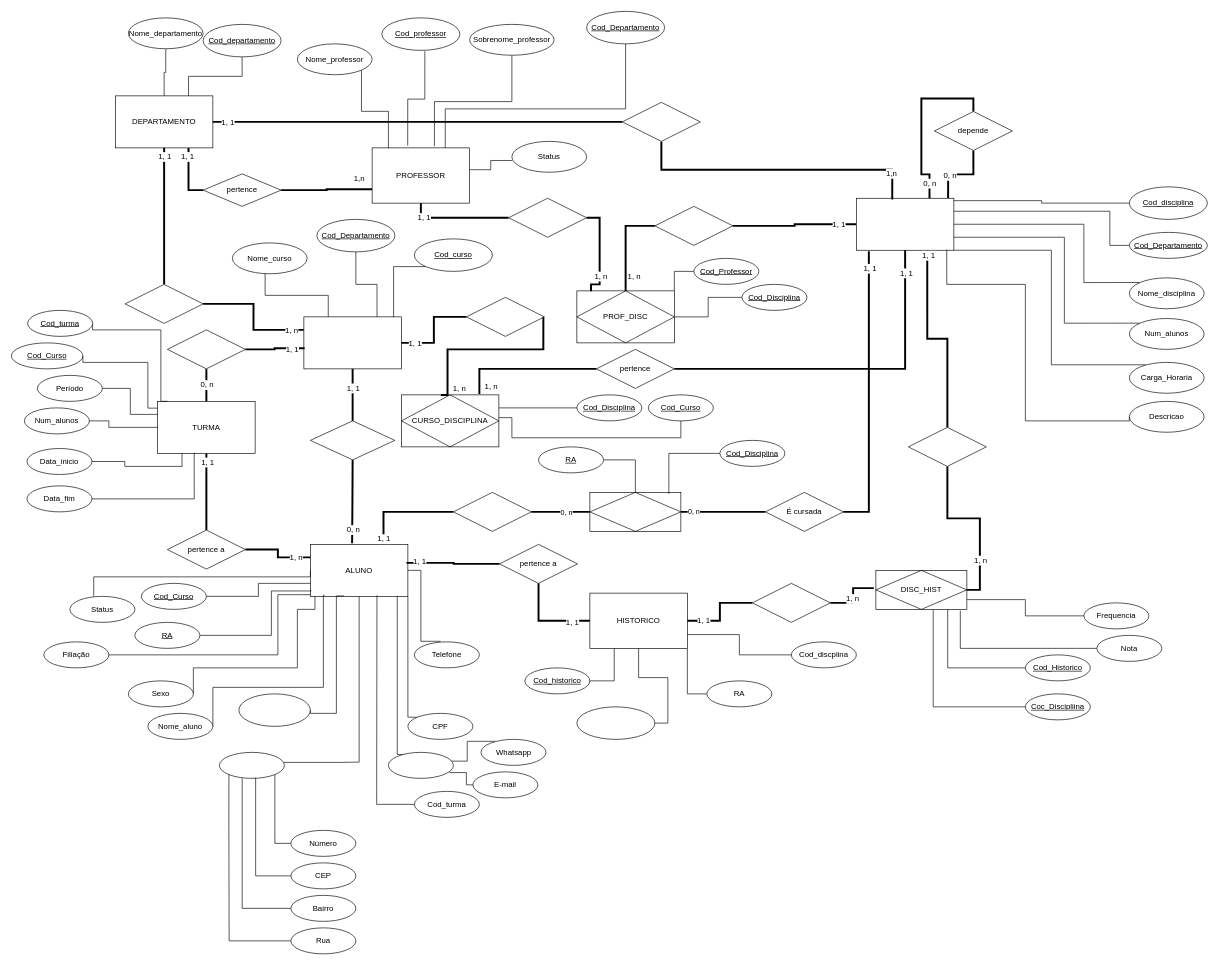
Some shapes in this 1225 by 965 pixel diagram are drawn without their labels. The shapes that lost their labels are listed below. From the top down, each one's centre as x and y in pixels, then its label:
At (x=661, y=121): "gerencia".
At (x=547, y=217): "leciona".
At (x=693, y=225): "É lecionada".
At (x=905, y=224): "DISCIPLINA".
At (x=163, y=303): "controla".
At (x=505, y=316): "possui".
At (x=206, y=349): "gera".
At (x=352, y=342): "CURSO".
At (x=352, y=440): "está matriculado".
At (x=947, y=446): "É composto".
At (x=492, y=511): "cursa".
At (x=635, y=511): "Aluno_Disc".
At (x=791, y=602): "compõe".
At (x=274, y=709): "Sobren ome_aluno".
At (x=615, y=722): "Periodo_realizacao".
At (x=251, y=765): "Endereco".
At (x=420, y=765): "Contato".
